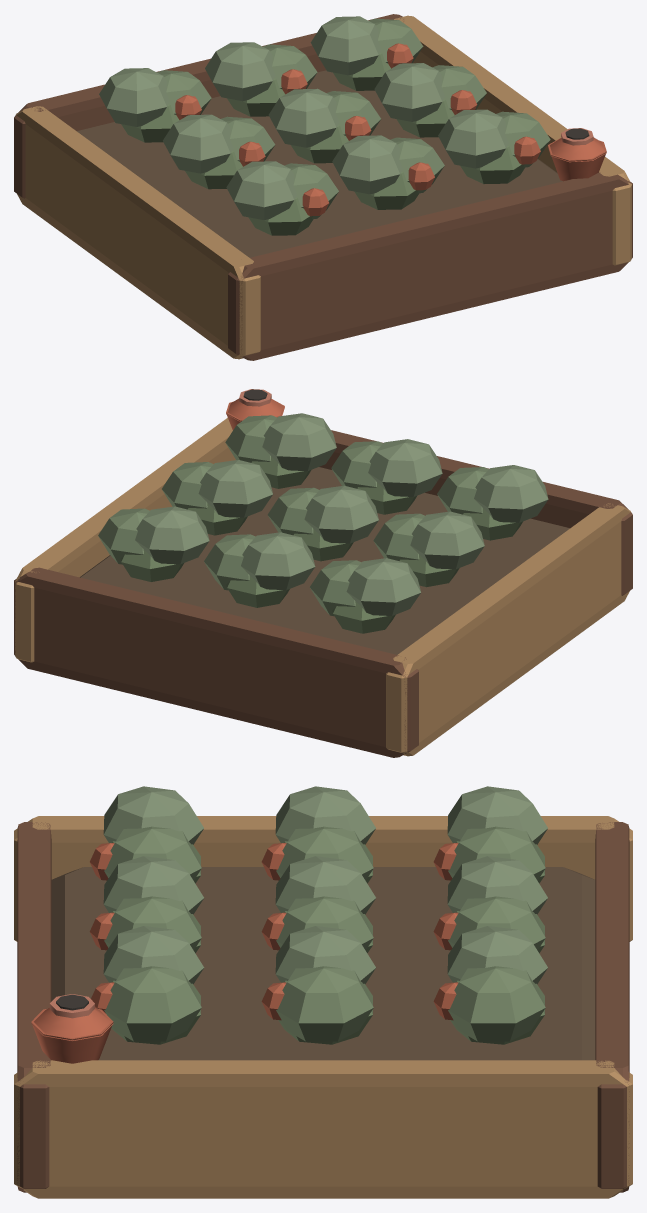
The model's file is garden.glb.
The picture shows the model from 3 angles, top to bottom: view 1: azimuth 30°, elevation 25°; view 2: azimuth 150°, elevation 25°; view 3: azimuth 270°, elevation 25°; orthographic projection. The views are drawn at different scales.
Parts seen in each view (by area): view 1: _MeshInstance3D_53, RaisedBedSide, Soil, _MeshInstance3D_52, RaisedBedEnd, _MeshInstance3D_62, _MeshInstance3D_66, _MeshInstance3D_78, _MeshInstance3D_74, _MeshInstance3D_86, _MeshInstance3D_55, _MeshInstance3D_58 (+31 smaller); view 2: RaisedBedEnd, RaisedBedSide, Soil, _MeshInstance3D_52, _MeshInstance3D_53, _MeshInstance3D_62, _MeshInstance3D_86, _MeshInstance3D_58, _MeshInstance3D_74, _MeshInstance3D_55, _MeshInstance3D_66, _MeshInstance3D_70 (+21 smaller); view 3: _MeshInstance3D_52, Soil, RaisedBedSide, RaisedBedEnd, _MeshInstance3D_53, _MeshInstance3D_81, _MeshInstance3D_77, _MeshInstance3D_85, _MeshInstance3D_66, _MeshInstance3D_70, _MeshInstance3D_55, _MeshInstance3D_58 (+21 smaller).
Boxes of the visible parts, bbox=[...] form: _MeshInstance3D_53: bbox=[228, 172, 632, 360]; RaisedBedSide: bbox=[15, 106, 260, 359]; Soil: bbox=[77, 70, 562, 257]; _MeshInstance3D_52: bbox=[394, 15, 631, 265]; RaisedBedEnd: bbox=[14, 14, 403, 198]; _MeshInstance3D_62: bbox=[226, 161, 296, 220]; _MeshInstance3D_66: bbox=[205, 42, 275, 101]; _MeshInstance3D_78: bbox=[310, 16, 381, 75]; _MeshInstance3D_74: bbox=[332, 135, 402, 194]; _MeshInstance3D_86: bbox=[438, 109, 508, 168]; _MeshInstance3D_55: bbox=[99, 68, 169, 126]; _MeshInstance3D_58: bbox=[163, 114, 233, 173]; RaisedBedEnd: bbox=[14, 567, 418, 757]; RaisedBedSide: bbox=[386, 503, 631, 756]; Soil: bbox=[80, 467, 569, 654]; _MeshInstance3D_52: bbox=[15, 417, 235, 662]; _MeshInstance3D_53: bbox=[319, 430, 632, 595]; _MeshInstance3D_62: bbox=[474, 465, 548, 522]; _MeshInstance3D_86: bbox=[262, 413, 336, 471]; _MeshInstance3D_58: bbox=[410, 511, 484, 569]; _MeshInstance3D_74: bbox=[368, 439, 442, 496]; _MeshInstance3D_55: bbox=[346, 558, 420, 615]; _MeshInstance3D_66: bbox=[241, 532, 315, 590]; _MeshInstance3D_70: bbox=[304, 485, 378, 543]; _MeshInstance3D_52: bbox=[14, 1060, 632, 1198]; Soil: bbox=[51, 867, 595, 1060]; RaisedBedSide: bbox=[14, 816, 632, 941]; RaisedBedEnd: bbox=[595, 822, 629, 1192]; _MeshInstance3D_53: bbox=[17, 822, 51, 1192]; _MeshInstance3D_81: bbox=[276, 966, 373, 1041]; _MeshInstance3D_77: bbox=[448, 966, 545, 1041]; _MeshInstance3D_85: bbox=[104, 966, 201, 1041]; _MeshInstance3D_66: bbox=[447, 856, 547, 914]; _MeshInstance3D_70: bbox=[275, 856, 375, 914]; _MeshInstance3D_55: bbox=[447, 786, 547, 844]; _MeshInstance3D_58: bbox=[275, 786, 375, 844].
Bounding box in the file's own units: 1.8 × 0.63 × 1.8.
